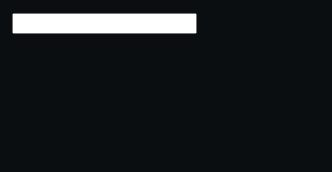
Test: AssetSearch › renders a searchbox and selects a validated catalog result
The width and height of the screenshot is (332, 172).
Later steps or results of the test are not shown.
Step 1. Type "cha" into the search field → (104, 24), box [12,13,197,34]
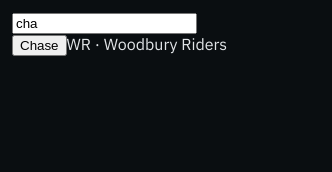
Expected: the button "Chase" is shown, [12,35,66,56]
